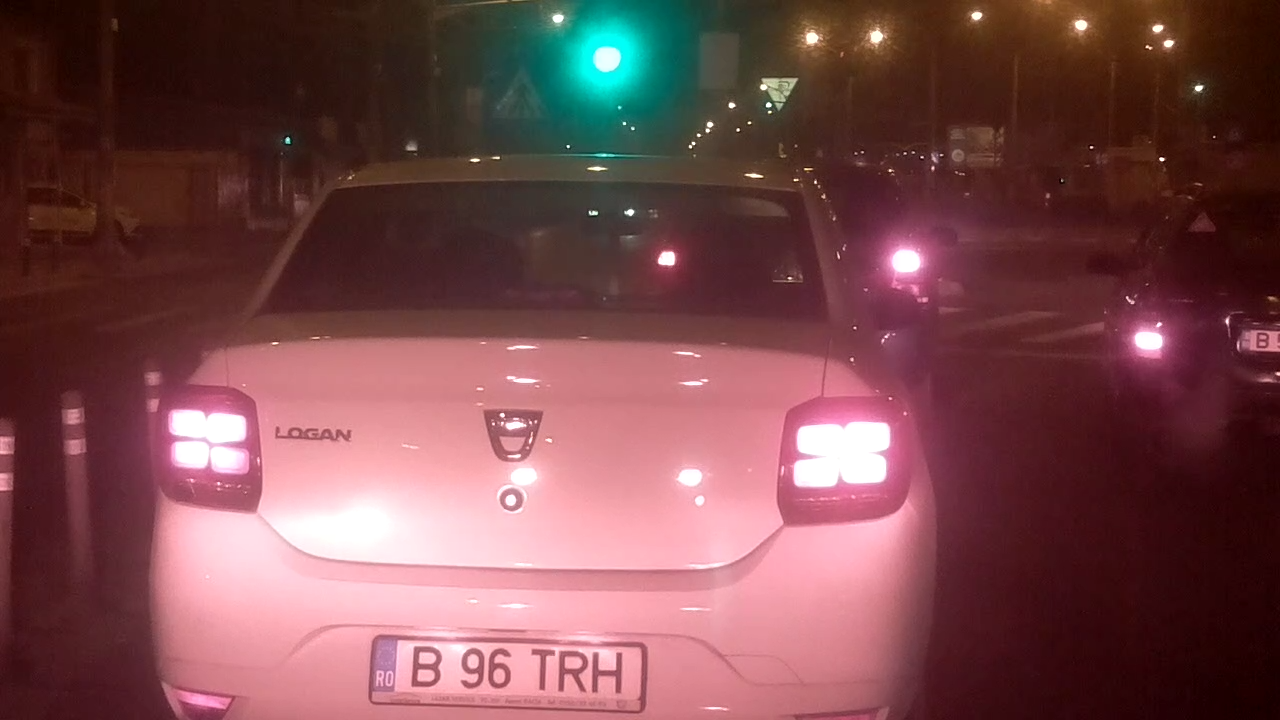license-plate: (362, 630, 652, 719)
